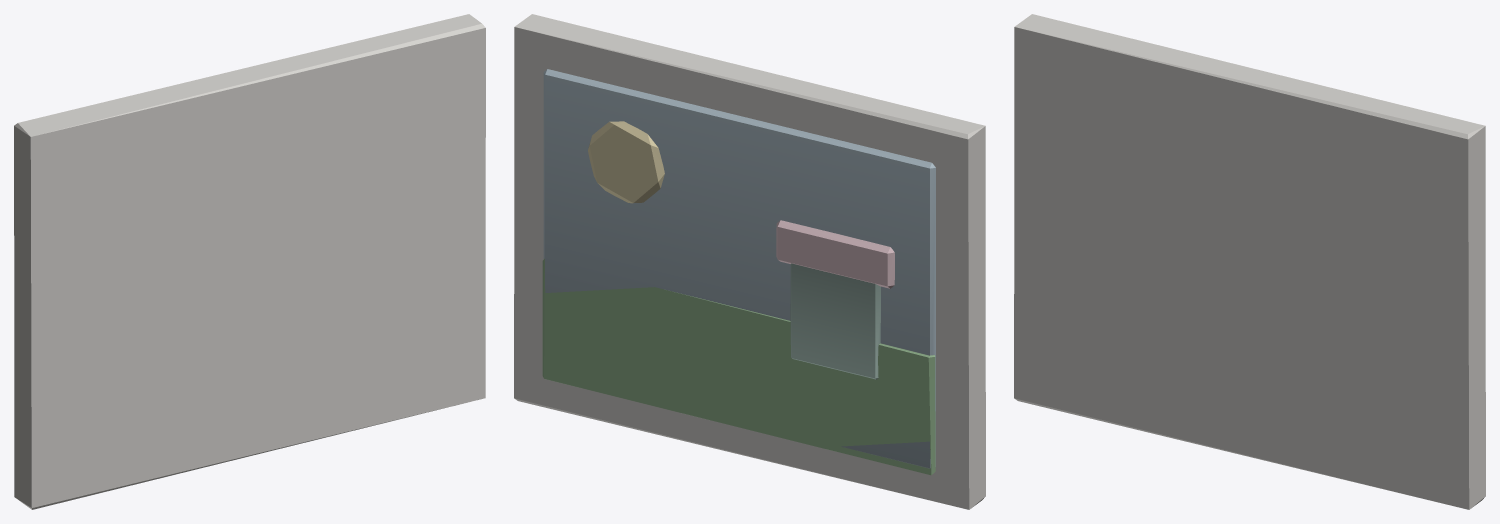
The model's file is furn_picture_frame__white_low.glb.
3 renders of one model, left to right at view 1: azimuth 30°, elevation 25°; view 2: azimuth 150°, elevation 25°; view 3: azimuth 330°, elevation 25°, orthographic.
Bounding box in the file's own units: 0.6954 × 0.55 × 0.0644.
